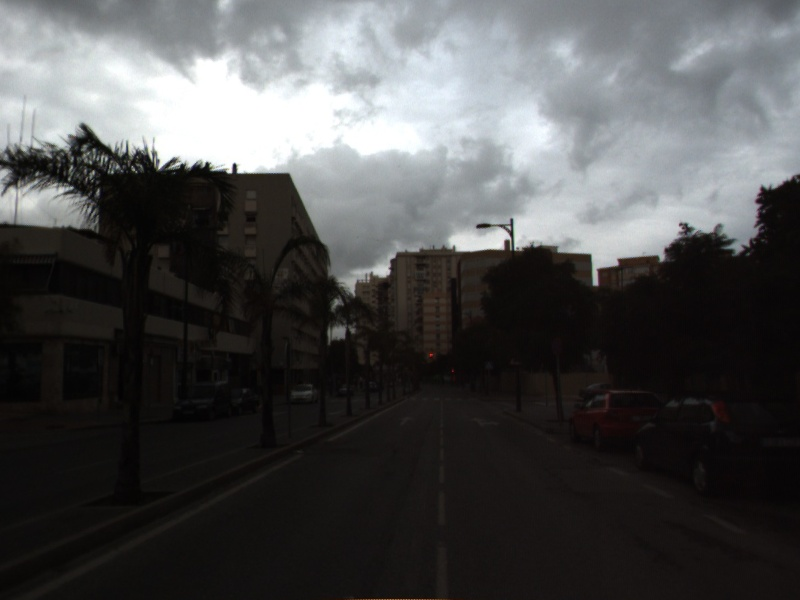STRAIGHT: (396, 414, 416, 427)
STRAIGHT_RIGHT: (467, 415, 501, 428)
